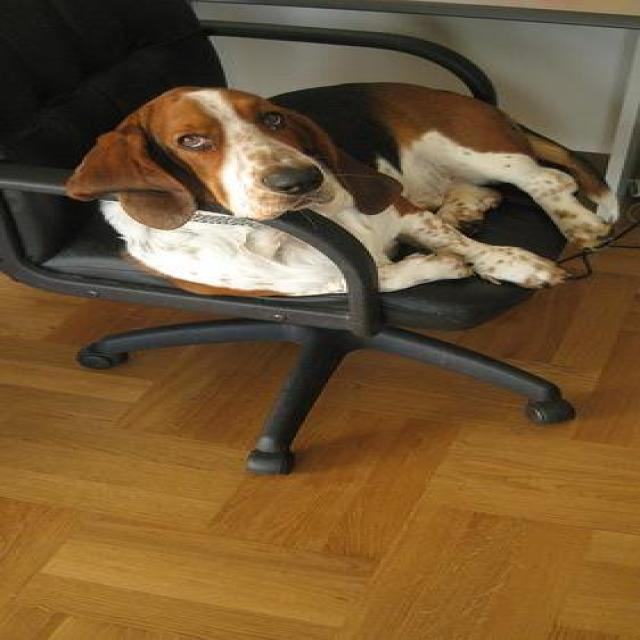basset: (73, 81, 635, 297)
